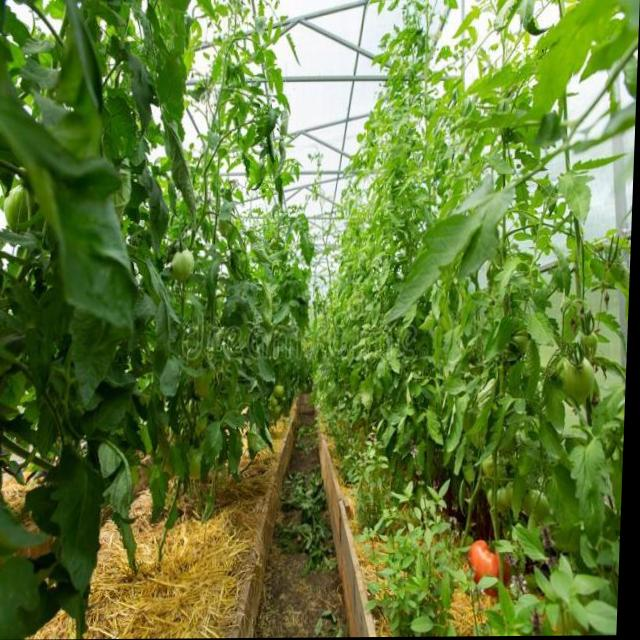kirmizi: (481, 533, 510, 593)
